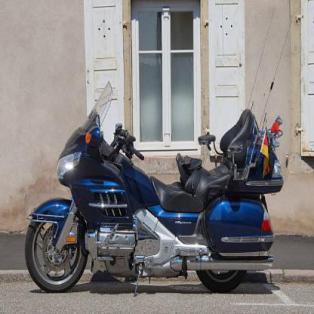Motocicleta: (19, 82, 284, 300)
